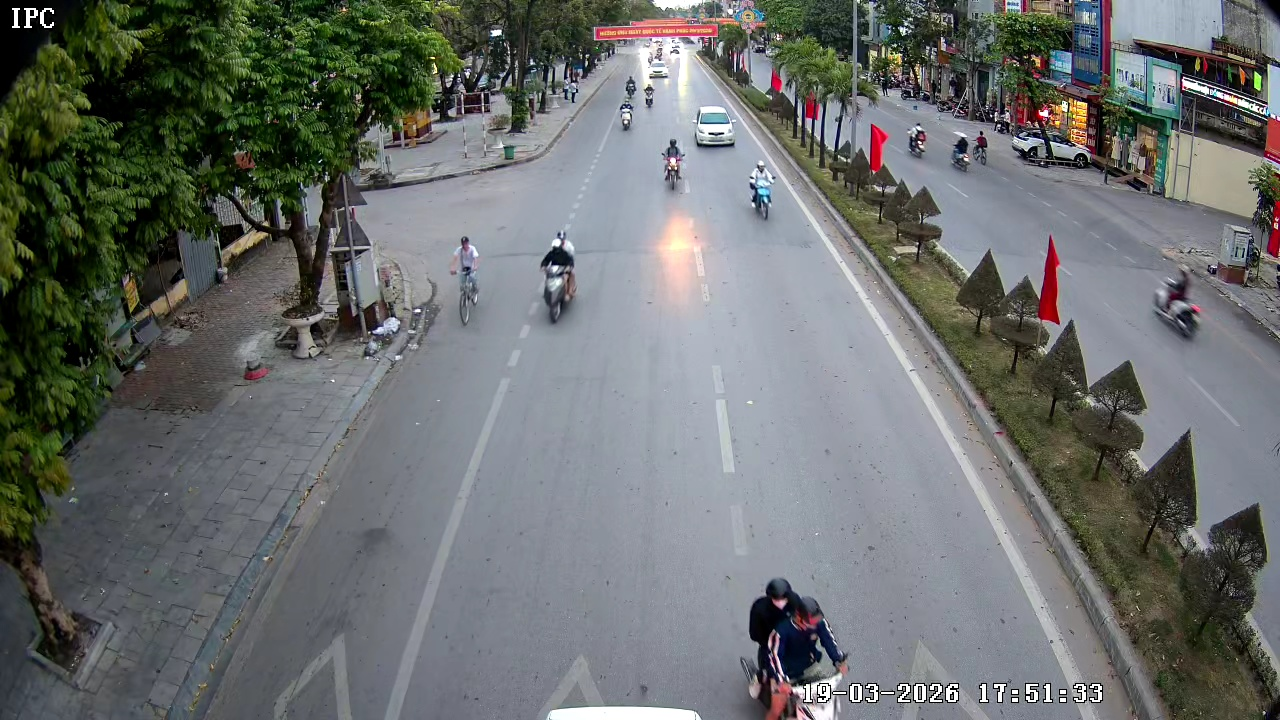bike: (447, 234, 482, 327)
car: (690, 104, 737, 150)
motorbike: (718, 567, 876, 719), (537, 230, 580, 325), (1152, 266, 1203, 340), (746, 160, 776, 221), (658, 138, 689, 194), (619, 98, 637, 131), (643, 82, 661, 111), (625, 75, 640, 100)
